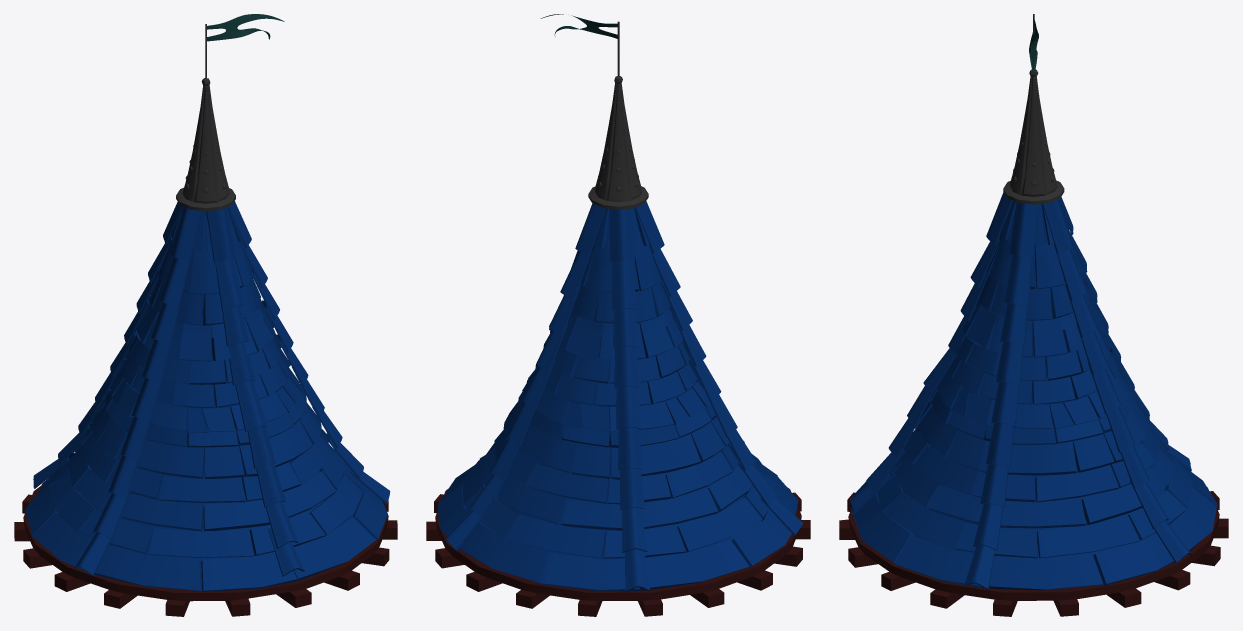
The model's file is TowerRoof_01.fbx.
3 renders of one model, left to right at view 1: azimuth 30°, elevation 25°; view 2: azimuth 150°, elevation 25°; view 3: azimuth 270°, elevation 25°, orthographic.
Visible parts, largest first — view 1: TowerRoof_01; view 2: TowerRoof_01; view 3: TowerRoof_01.
Boxes of the visible parts, x1=… form: TowerRoof_01: x1=14, y1=14, x2=397, y2=616; TowerRoof_01: x1=426, y1=14, x2=810, y2=616; TowerRoof_01: x1=839, y1=14, x2=1228, y2=616.
Bounding box in the file's own units: 1248 × 1852 × 1256.
